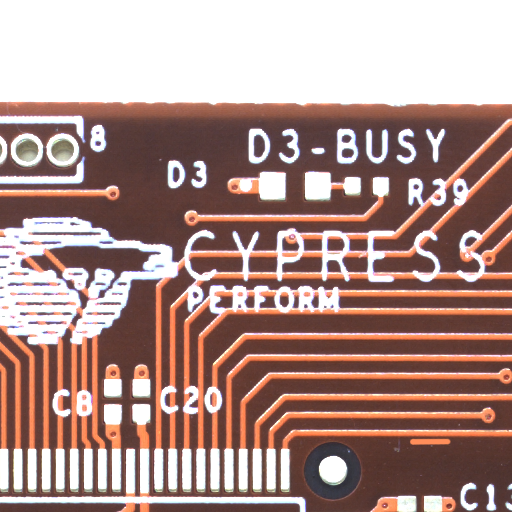Spurious_copper: (429, 441, 472, 450)
